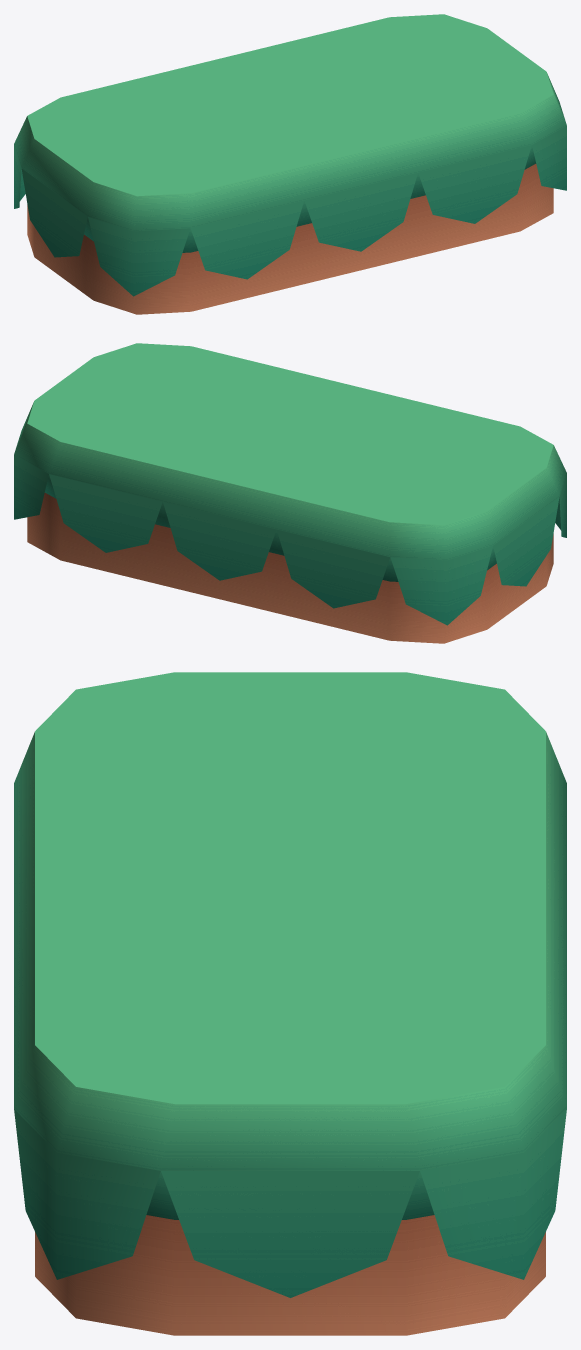
File: block-grass-overhang-low-long.glb
3 views of the same model, one above another, from view 1: azimuth 30°, elevation 25°; view 2: azimuth 150°, elevation 25°; view 3: azimuth 270°, elevation 25° (orthographic). The views are drawn at different scales.
Parts seen in each view (by area): view 1: block-grass-overhang-low-long; view 2: block-grass-overhang-low-long; view 3: block-grass-overhang-low-long.
Boxes of the visible parts, bbox=[...] form: block-grass-overhang-low-long: bbox=[14, 14, 566, 314]; block-grass-overhang-low-long: bbox=[14, 343, 566, 643]; block-grass-overhang-low-long: bbox=[14, 672, 566, 1335].
Size of the model in its own units: 2.08 by 0.5 by 1.08.
1 material, 1 textured.
